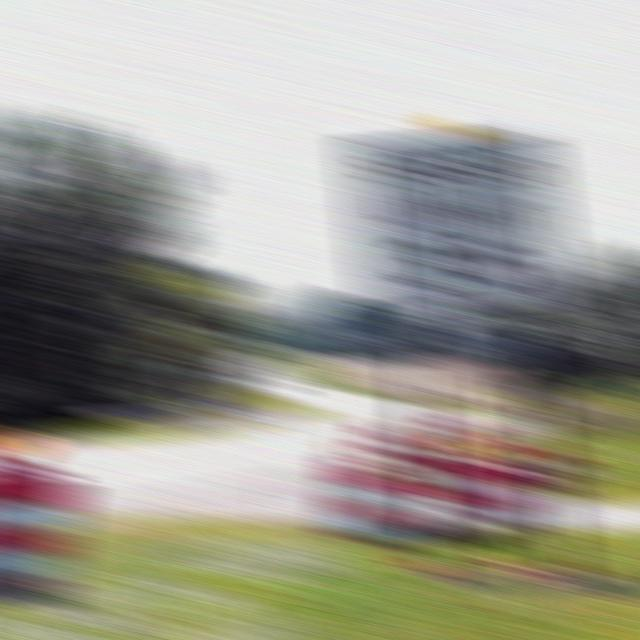speedLimit35: (348, 124, 562, 310)
